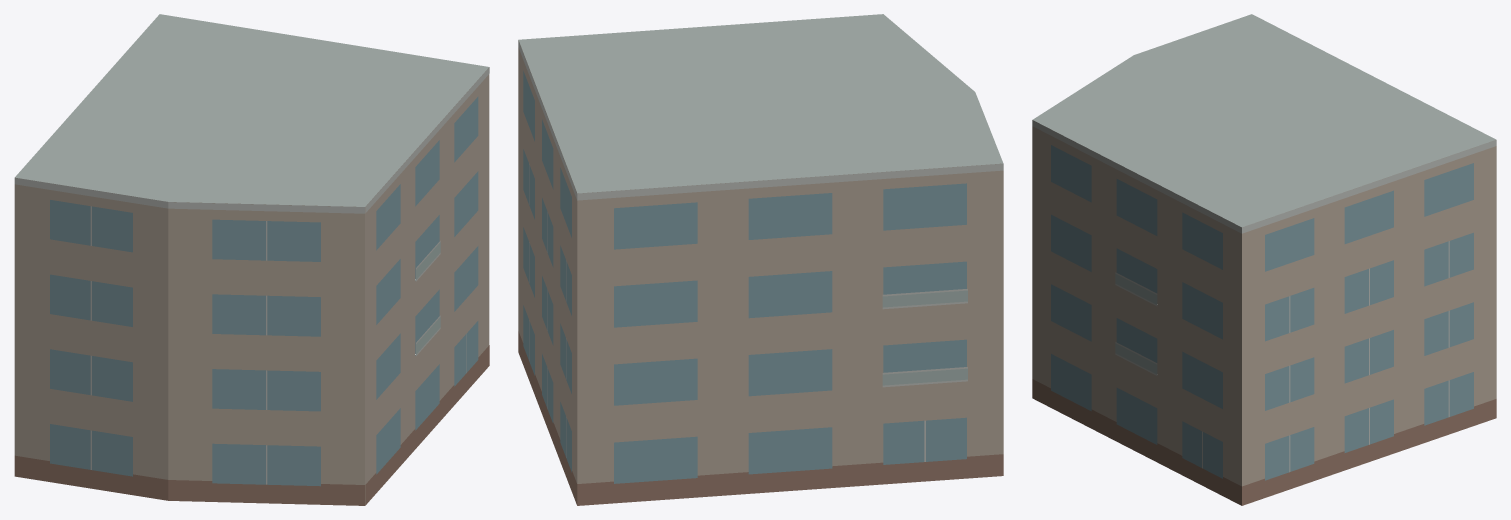
The model's file is survey-upis-32781329.glb.
The picture shows the model from 3 angles, left to right: view 1: azimuth 30°, elevation 25°; view 2: azimuth 150°, elevation 25°; view 3: azimuth 270°, elevation 25°; orthographic projection. The views are drawn at different scales.
Visible parts, largest first — view 1: survey-upis-32781329.tmp; view 2: survey-upis-32781329.tmp; view 3: survey-upis-32781329.tmp.
Part boxes in pixels (bbox=[...]): survey-upis-32781329.tmp: bbox=[14, 14, 489, 505]; survey-upis-32781329.tmp: bbox=[518, 14, 1003, 505]; survey-upis-32781329.tmp: bbox=[1032, 14, 1496, 505].
Size of the model in its own units: 17.76 by 10.8 by 16.33.
